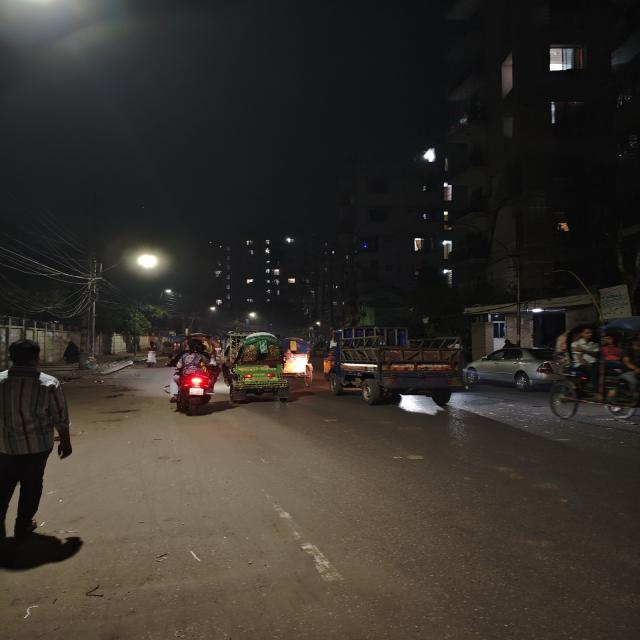car: (469, 344, 566, 394)
motorcycle: (162, 334, 221, 412)
pedestrian: (0, 336, 82, 569), (141, 341, 164, 369)
pickup_van: (321, 323, 474, 413)
rickshaw: (548, 316, 640, 432), (220, 329, 297, 409)
